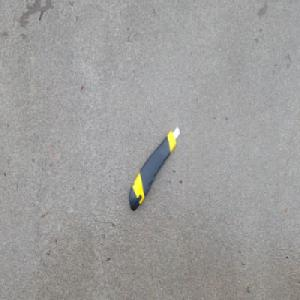Cutter: (128, 123, 181, 211)
